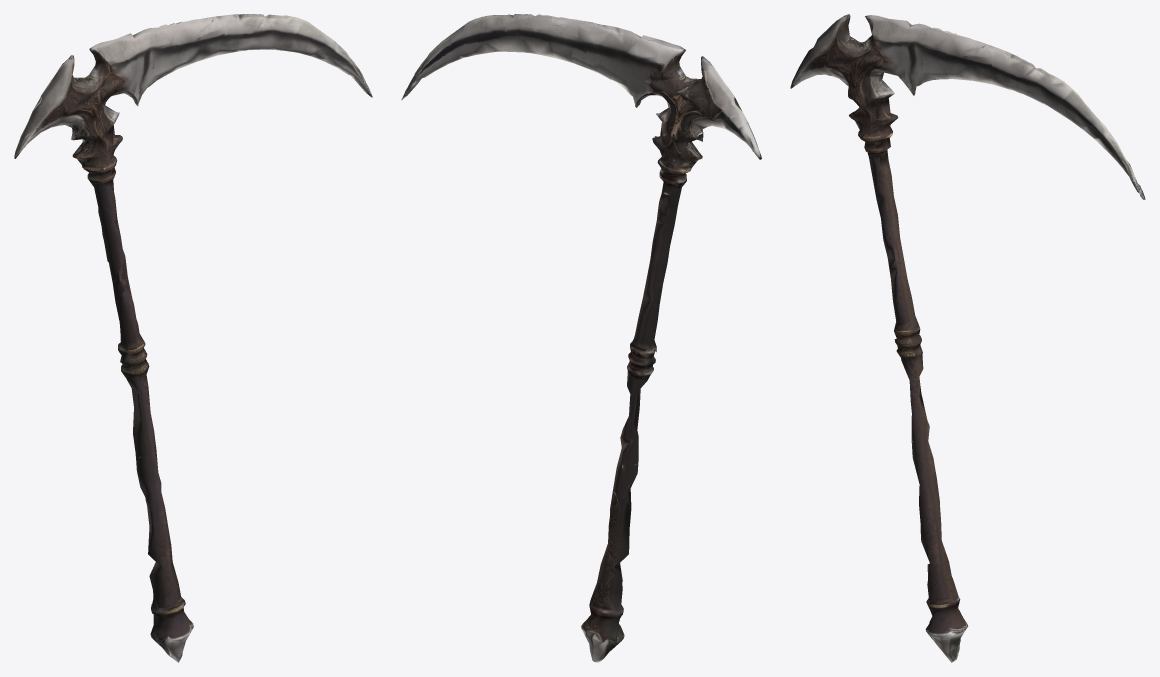
Rendered from 1705_scythe.glb.
3 views of the same model, side by side, from view 1: azimuth 30°, elevation 25°; view 2: azimuth 150°, elevation 25°; view 3: azimuth 330°, elevation 25° (orthographic).
Visible parts, largest first — view 1: Model; view 2: Model; view 3: Model.
Boxes of the visible parts, x1,y1,x2,y2 form: Model: (14,14,372,662); Model: (401,14,761,662); Model: (790,14,1145,662).
Size of the model in its own units: 0.5857 by 1 by 0.0606.
Materials: 1 (1 with a texture image).
